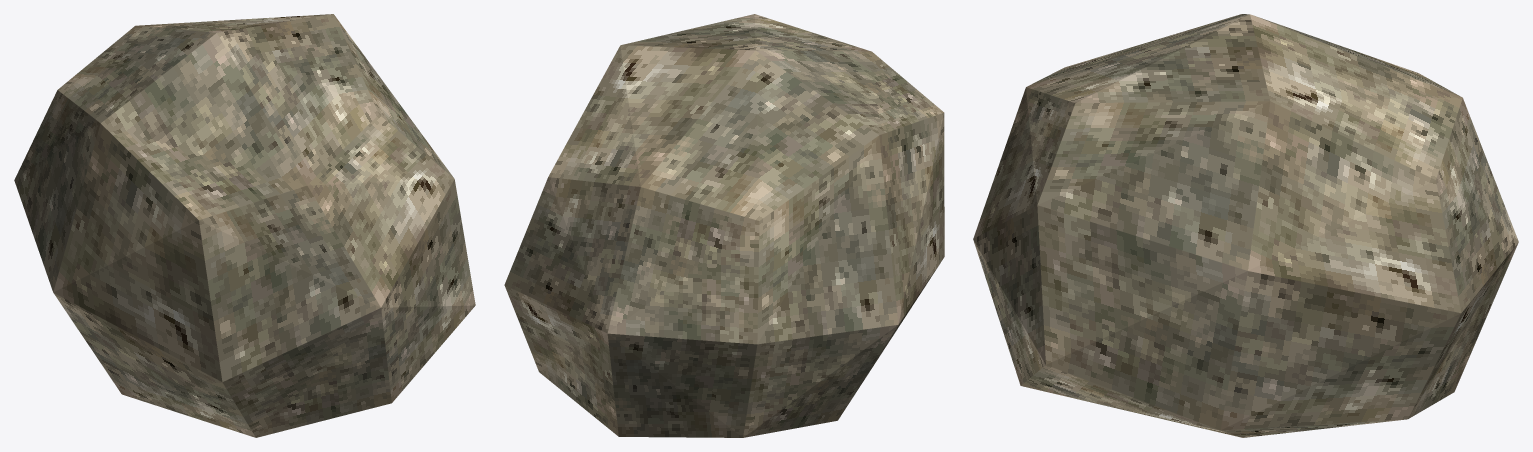
Rendered from asteroid_radial_s01_l2.fbx.
3 views of the same model, side by side, from view 1: azimuth 30°, elevation 25°; view 2: azimuth 150°, elevation 25°; view 3: azimuth 270°, elevation 25° (orthographic). The views are drawn at different scales.
Visible parts, largest first — view 1: mesh_node; view 2: mesh_node; view 3: mesh_node.
Boxes of the visible parts, bbox=[...] form: mesh_node: bbox=[14, 14, 475, 437]; mesh_node: bbox=[504, 14, 944, 437]; mesh_node: bbox=[973, 14, 1518, 437].
Size of the model in its own units: 2.23 by 2.21 by 2.85.
